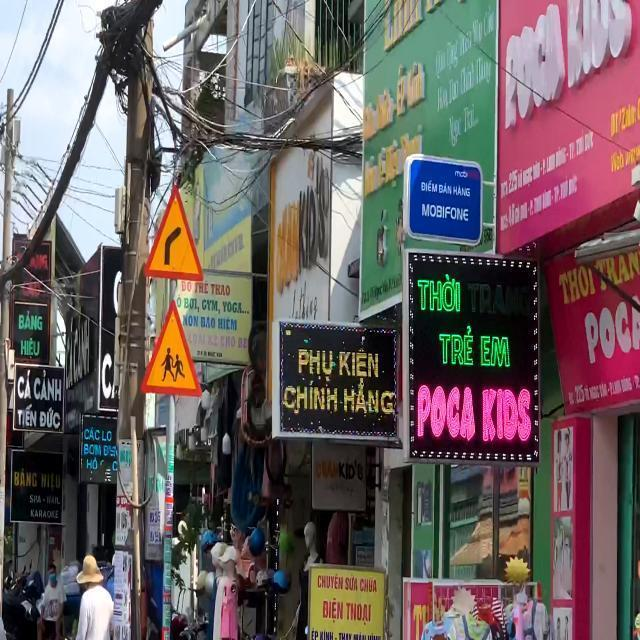201-cho-ngoat-nguy-hiem: (142, 184, 204, 280)
225-chu-y-tre-em: (136, 302, 206, 398)
